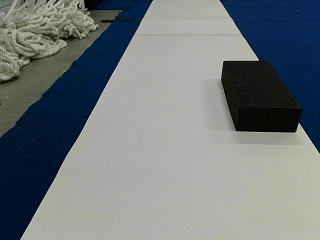block: (221, 61, 300, 131)
